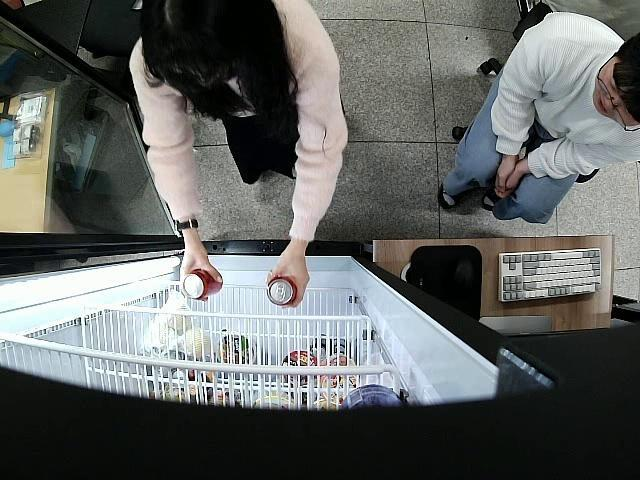11_cocaColaZero: (180, 270, 223, 299), (266, 276, 298, 309)
